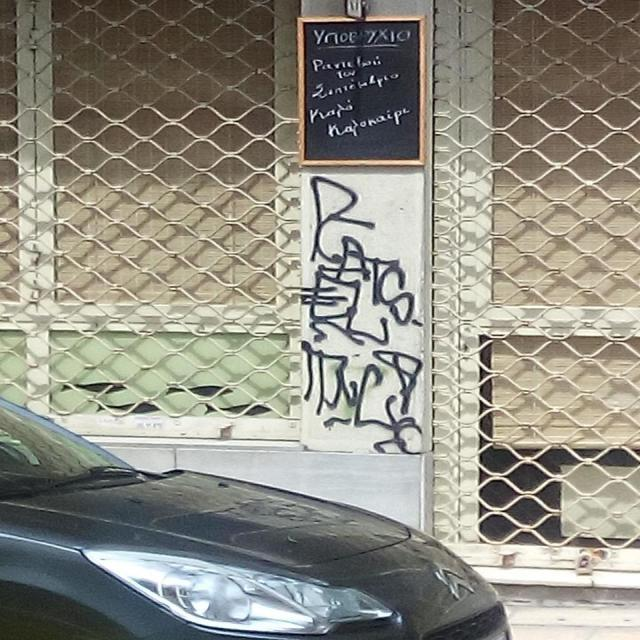nonspitting: (302, 175, 424, 452)
